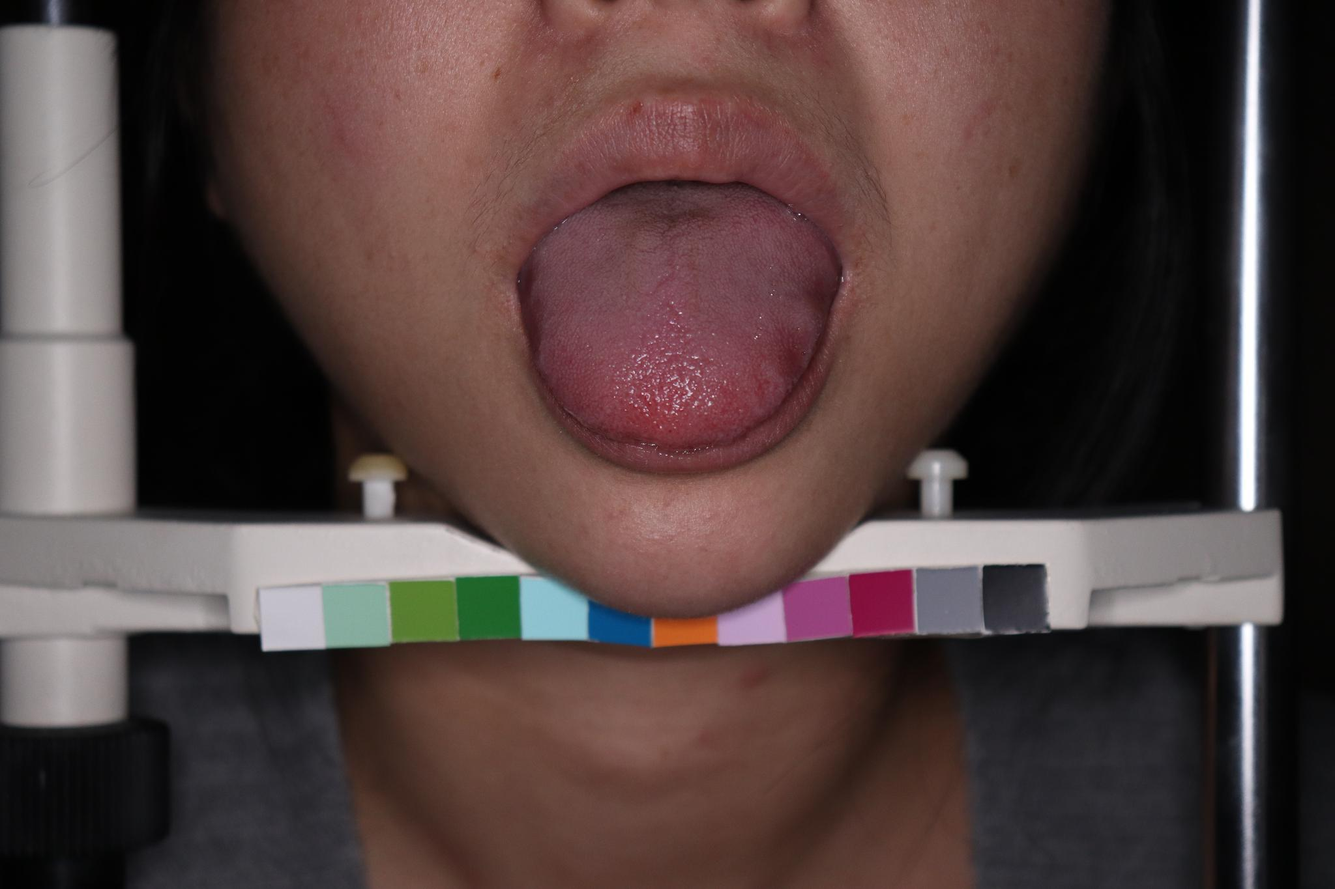baitaishe: (526, 184, 838, 449)
huataishe: (608, 335, 719, 417)
zishe: (526, 184, 838, 449)
